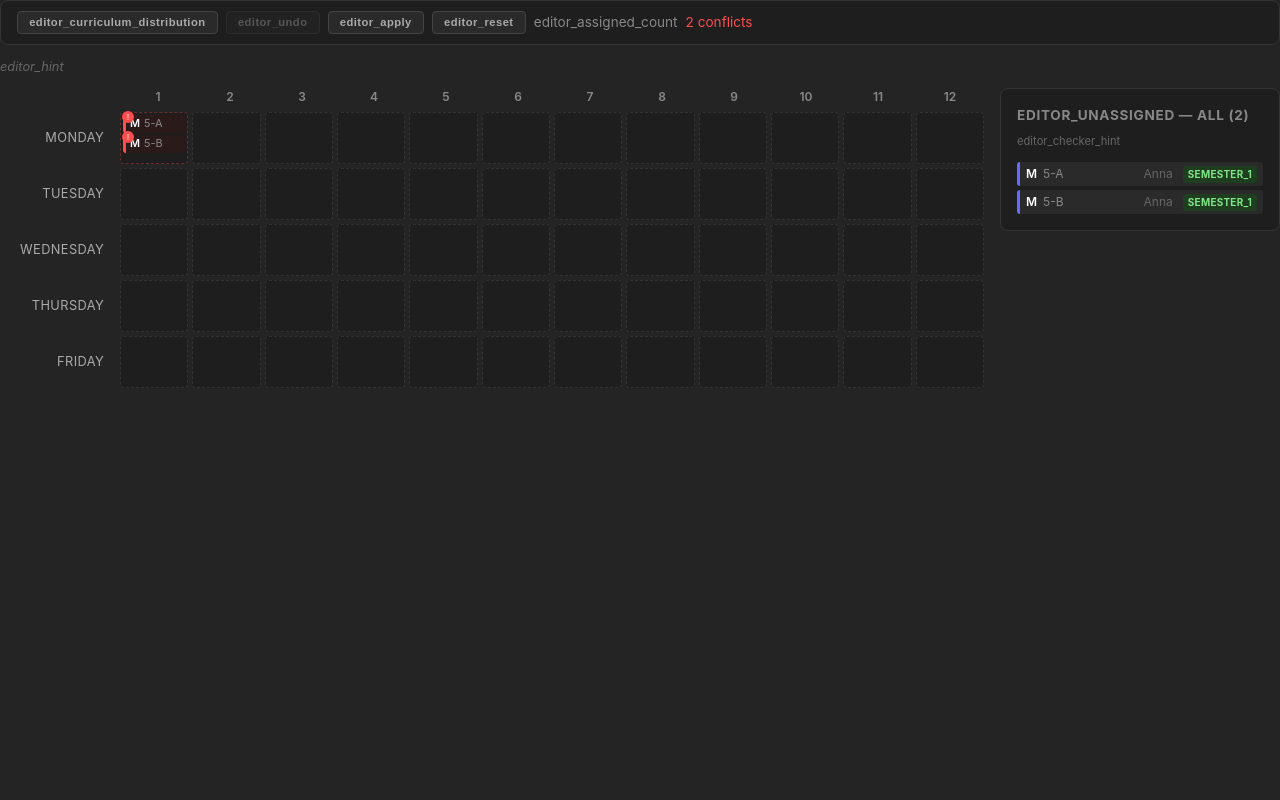
Test case: InlineEditor › opens the needed curriculum distribution modal listing every entered rule
Click the button "editor_curriculum_distribution".
click(117, 22)  # box [17,11,218,34]
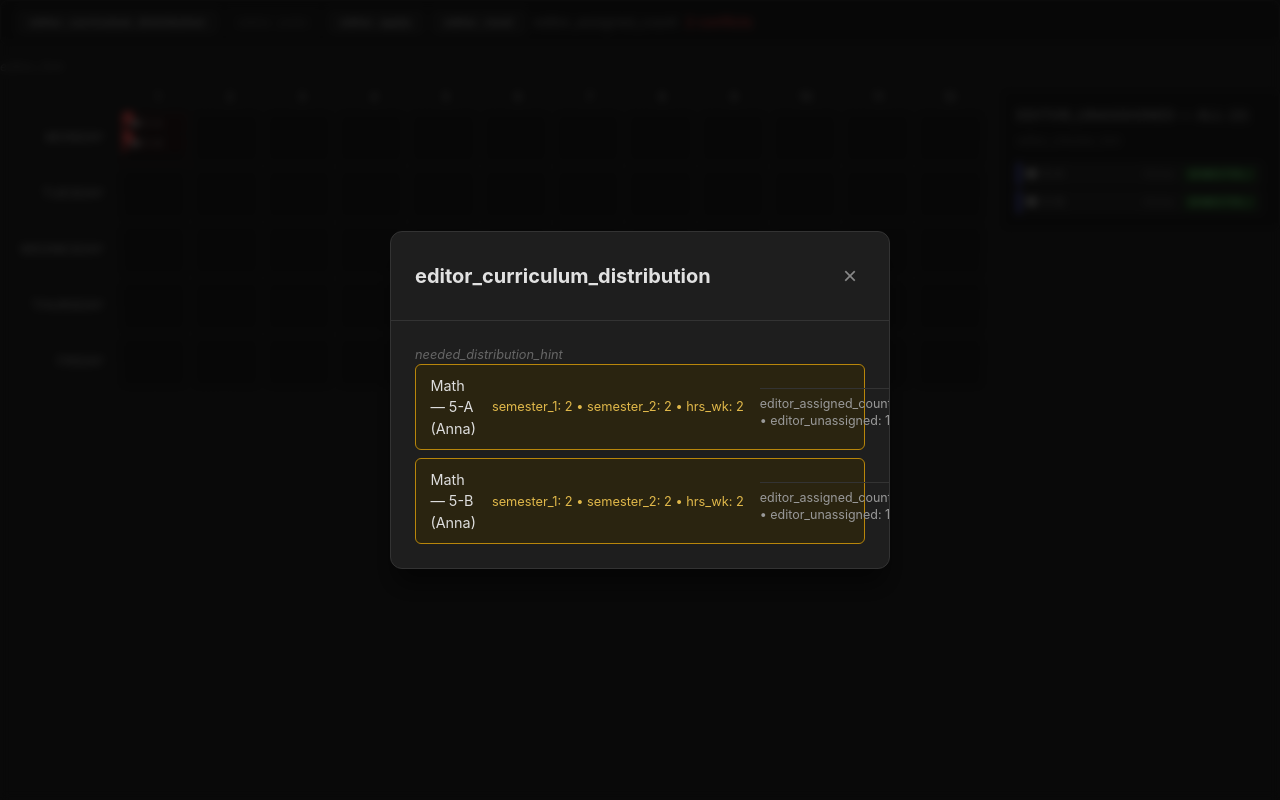
Expected: the element with class "detail-main" shows "Math — 5-A", [430,375,476,440]
Expected: the element with class "detail-main" shows "Math — 5-B", [430,469,476,534]
Expected: the 1st text with class "detail-meta" shows "semester_1", [492,400,558,414]
